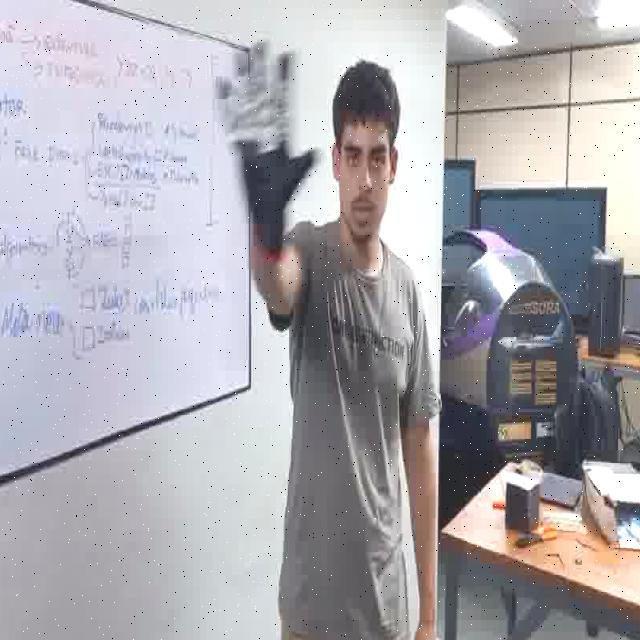Gloves: (216, 35, 324, 254)
